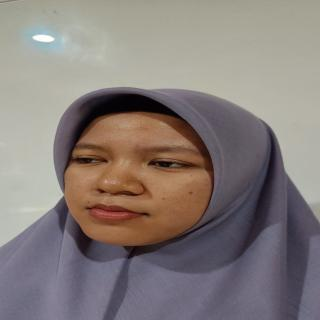Netral: (51, 104, 234, 254)
